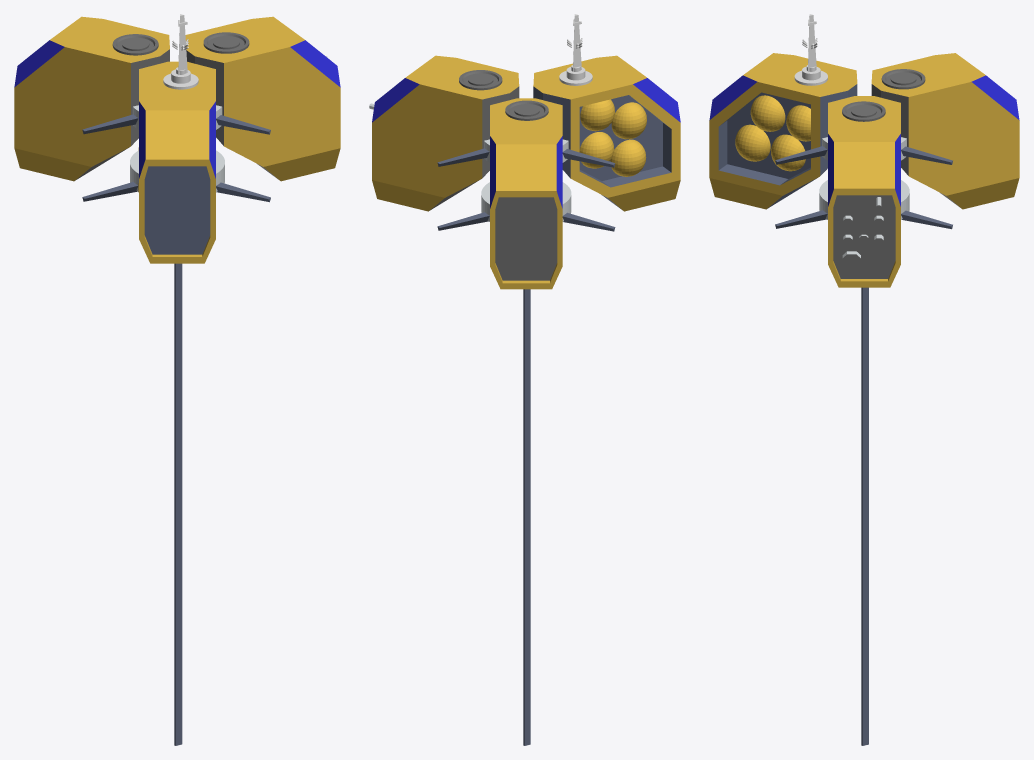
File: station_Minning_1.glb
3 views of the same model, side by side, from view 1: azimuth 30°, elevation 25°; view 2: azimuth 150°, elevation 25°; view 3: azimuth 270°, elevation 25° (orthographic). The views are drawn at different scales.
Visible parts, largest first — view 1: Cube.008, Cube, Cube.009, Cylinder.002, Cylinder.013, Cylinder.011, Cylinder.004, Cylinder.005, Cylinder.007, Cylinder; view 2: Cube, Cube.008, Cube.009, Cylinder.002, Sphere.003, Sphere.004, Sphere.001, Cylinder.013, Sphere.002, Cylinder.010, Cylinder.005, Cylinder.004 (+2 smaller); view 3: Cube.008, Cube, Cube.009, Cylinder.002, Sphere.008, Sphere.006, Sphere.007, Cylinder.010, Cylinder.011, Sphere.005, Cylinder.004, Cylinder.005 (+1 smaller).
Boxes of the visible parts, x1,y1,x2,y2 form: Cube.008: (14, 16, 169, 181); Cube: (185, 16, 340, 181); Cube.009: (139, 61, 215, 263); Cylinder.002: (174, 263, 182, 745); Cylinder.013: (82, 114, 138, 201); Cylinder.011: (216, 115, 270, 202); Cylinder.004: (203, 32, 249, 53); Cylinder.005: (112, 34, 158, 55); Cylinder.007: (163, 67, 198, 89); Cylinder: (130, 150, 224, 191); Cube: (372, 55, 519, 211); Cube.008: (490, 98, 562, 289); Cube.009: (533, 55, 680, 211); Cylinder.002: (523, 289, 530, 745); Sphere.003: (611, 102, 646, 139); Sphere.004: (610, 139, 646, 176); Sphere.001: (580, 99, 614, 131); Cylinder.013: (562, 149, 615, 231); Sphere.002: (579, 132, 614, 168); Cylinder.010: (437, 148, 489, 230); Cylinder.005: (505, 100, 548, 120); Cylinder.004: (459, 70, 502, 90); Cube.008: (871, 53, 1019, 209); Cube: (828, 96, 900, 287); Cube.009: (709, 53, 857, 209); Cylinder.002: (861, 287, 868, 745); Sphere.008: (735, 124, 770, 161); Sphere.006: (750, 95, 785, 131); Sphere.007: (771, 134, 805, 171); Cylinder.010: (901, 146, 952, 229); Cylinder.011: (775, 146, 827, 228); Sphere.005: (786, 105, 810, 141); Cylinder.004: (842, 101, 885, 121); Cylinder.005: (881, 69, 925, 89).
Bounding box in the file's own units: 135 × 378 × 148.
